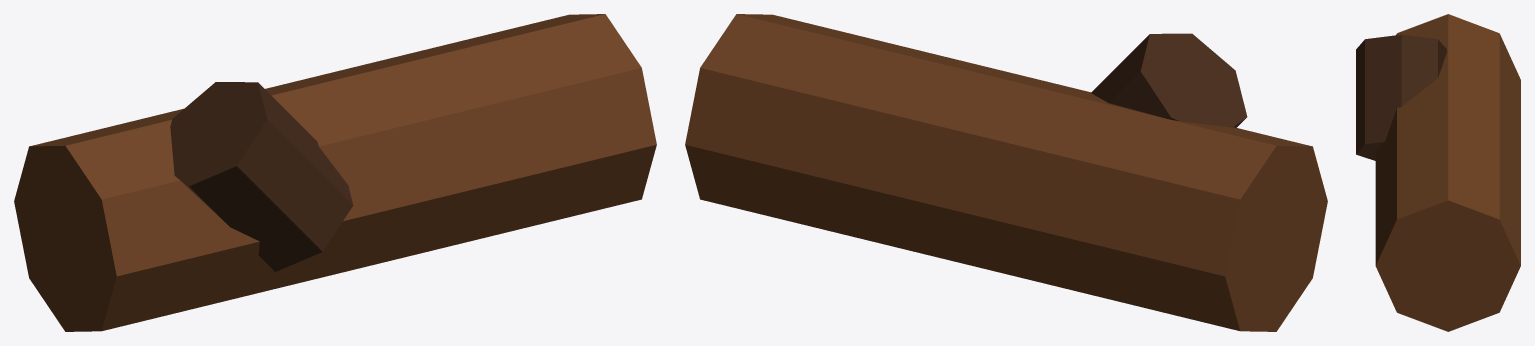
File: log.obj
3 renders of one model, left to right at view 1: azimuth 30°, elevation 25°; view 2: azimuth 150°, elevation 25°; view 3: azimuth 270°, elevation 25°, orthographic. The views are drawn at different scales.
Bounding box in the file's own units: 1.7 × 0.7066 × 0.6355.
Materials: 2 (2 with a texture image).
